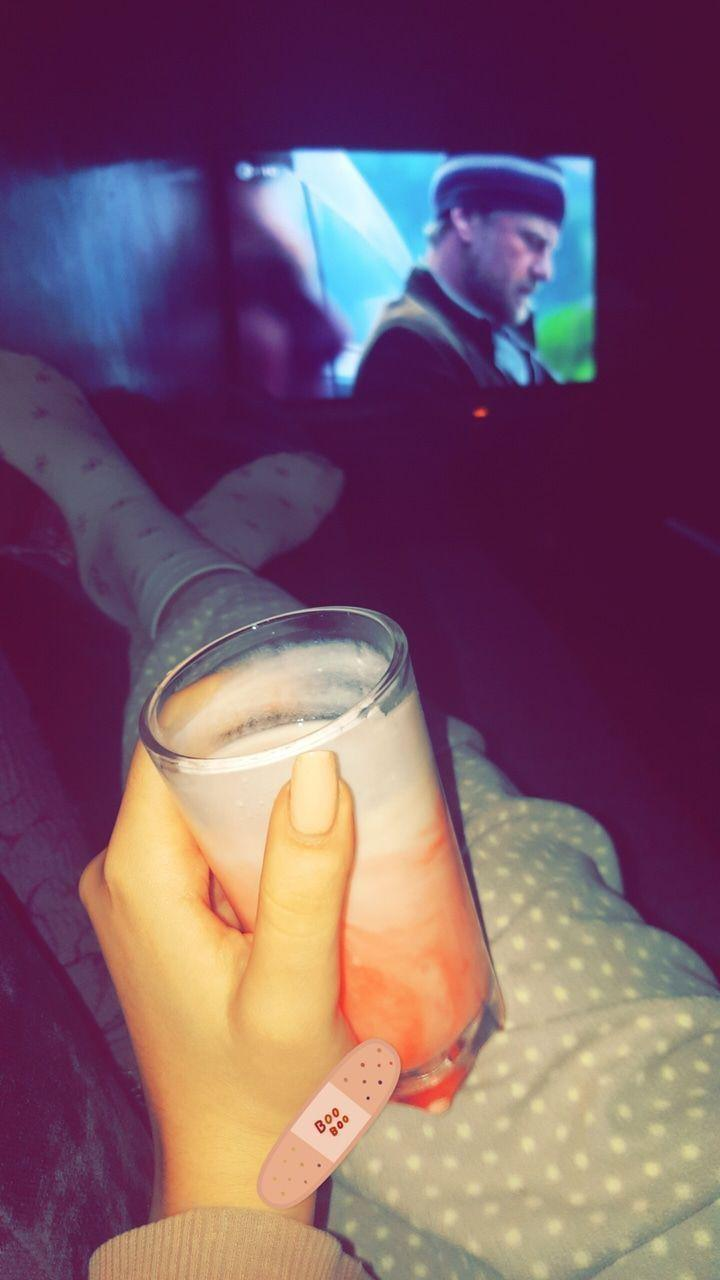glass-normal: (138, 608, 503, 1114)
